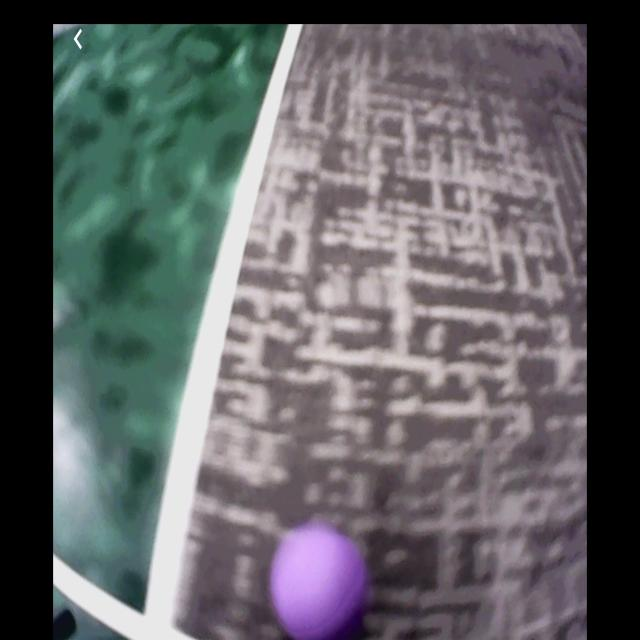ball: (271, 527, 367, 640)
